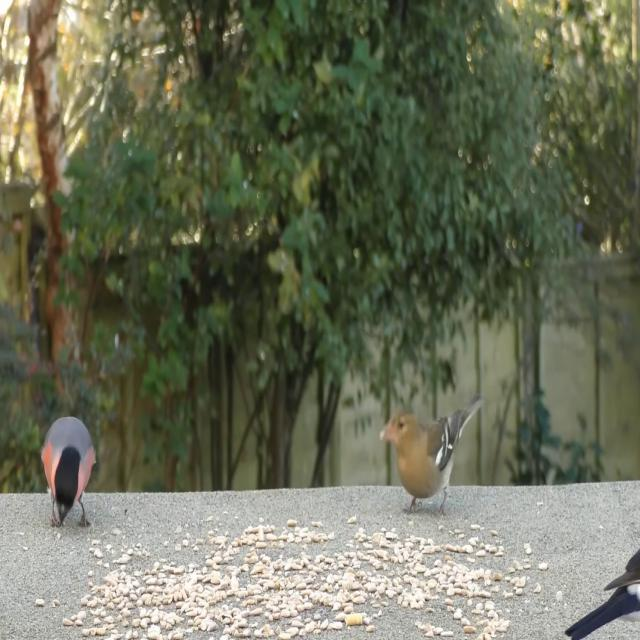beak: (56, 501, 72, 523), (378, 418, 389, 442)
bird: (380, 406, 486, 520), (38, 409, 97, 528)
